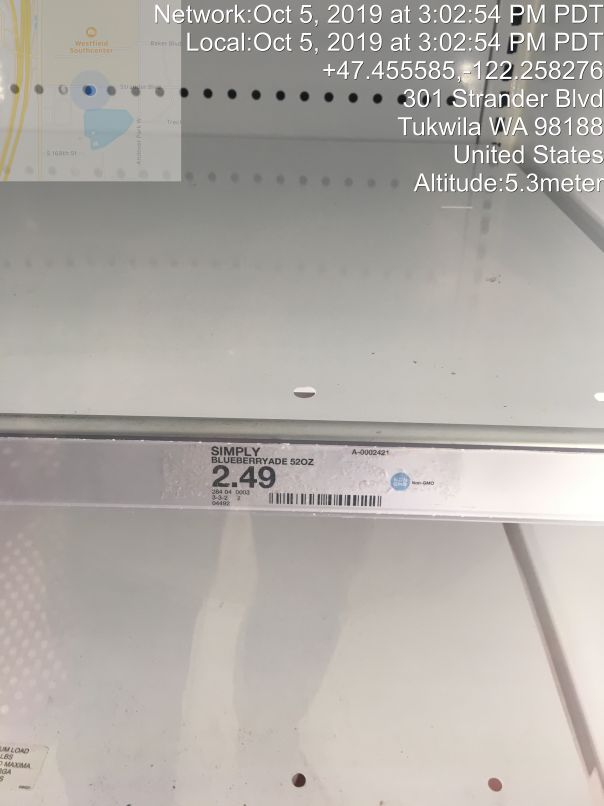Label: (200, 435, 459, 517)
Location: (21, 48, 407, 394), (393, 85, 604, 172)
Time: (147, 3, 604, 59)
Void: (15, 510, 553, 764)
